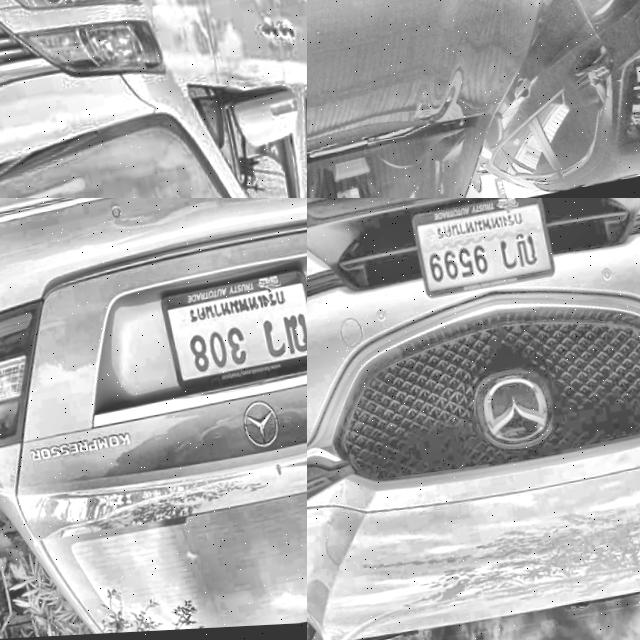license-plate: (153, 268, 307, 397), (407, 198, 555, 305)
